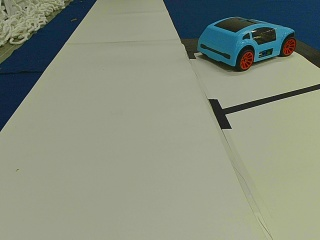car: (197, 17, 295, 71)
